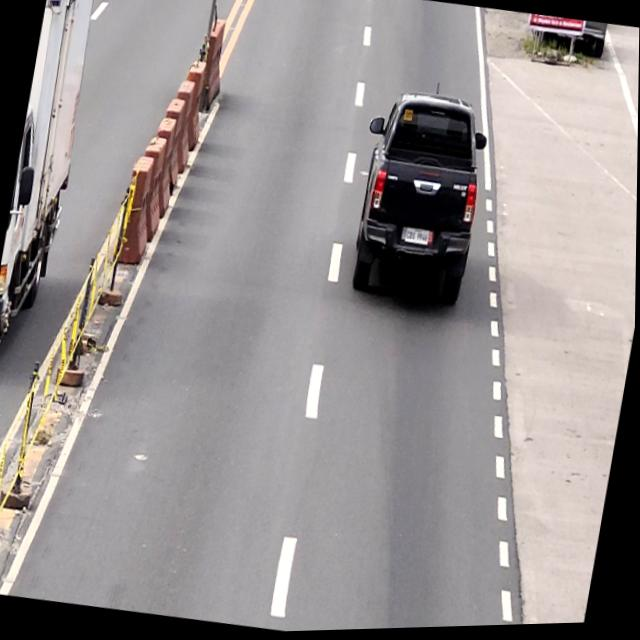Car: (341, 85, 494, 316)
License-Plate: (405, 228, 432, 252)
